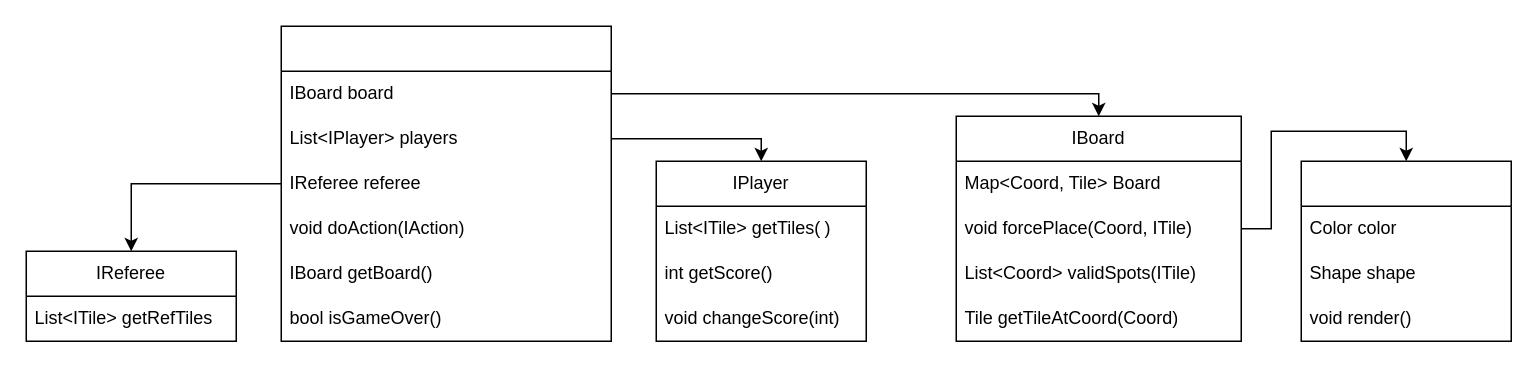
This 1538x368 diagram has some shape labels left out. The box of each missing label's shape, as (x1, y1, x2, y2) in pixels:
Game State: (280, 25, 611, 341)
ITile: (1300, 160, 1511, 341)
